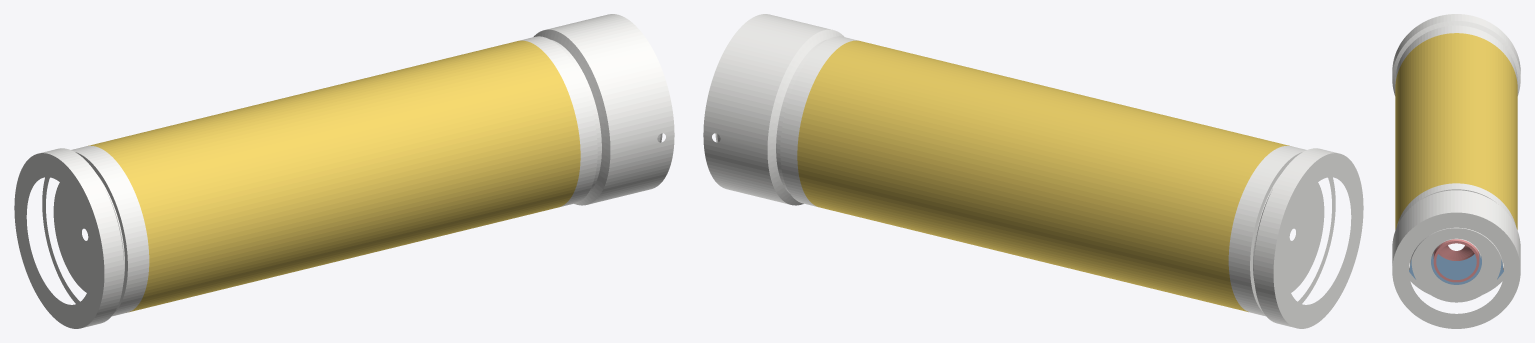
Rendered from solid_rocket_motor.gltf.
3 renders of one model, left to right at view 1: azimuth 30°, elevation 25°; view 2: azimuth 150°, elevation 25°; view 3: azimuth 270°, elevation 25°, orthographic. The views are drawn at different scales.
Visible parts, largest first — view 1: solid_rocket_motor; view 2: solid_rocket_motor; view 3: solid_rocket_motor.
Boxes of the visible parts, bbox=[...] form: solid_rocket_motor: bbox=[14, 14, 674, 328]; solid_rocket_motor: bbox=[703, 14, 1363, 328]; solid_rocket_motor: bbox=[1392, 14, 1520, 328].
Bounding box in the file's own units: 267 × 72.97 × 73.
